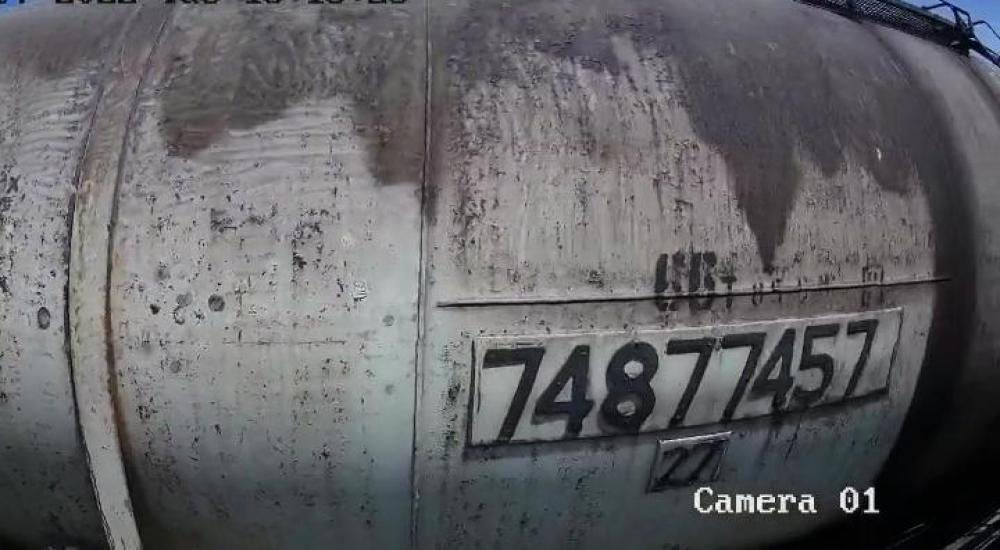Wagon-number: (480, 312, 889, 440)
